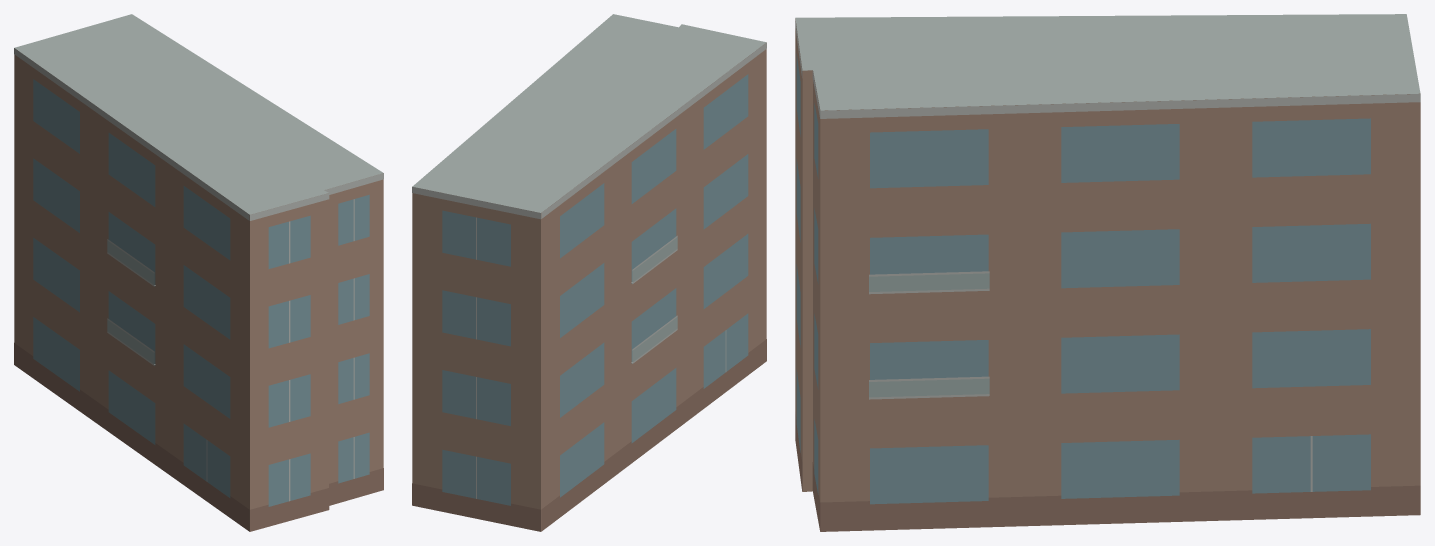
The model's file is survey-upis-32460689.glb.
The picture shows the model from 3 angles, left to right: view 1: azimuth 30°, elevation 25°; view 2: azimuth 150°, elevation 25°; view 3: azimuth 270°, elevation 25°; orthographic projection. The views are drawn at different scales.
Visible parts, largest first — view 1: survey-upis-32460689.tmp; view 2: survey-upis-32460689.tmp; view 3: survey-upis-32460689.tmp.
Part boxes in pixels (left/top/right/bottom): survey-upis-32460689.tmp: left=14, top=14, right=383, bottom=531; survey-upis-32460689.tmp: left=412, top=14, right=766, bottom=531; survey-upis-32460689.tmp: left=795, top=14, right=1420, bottom=531.
Size of the model in its own units: 6.01 by 12.2 by 16.42.
